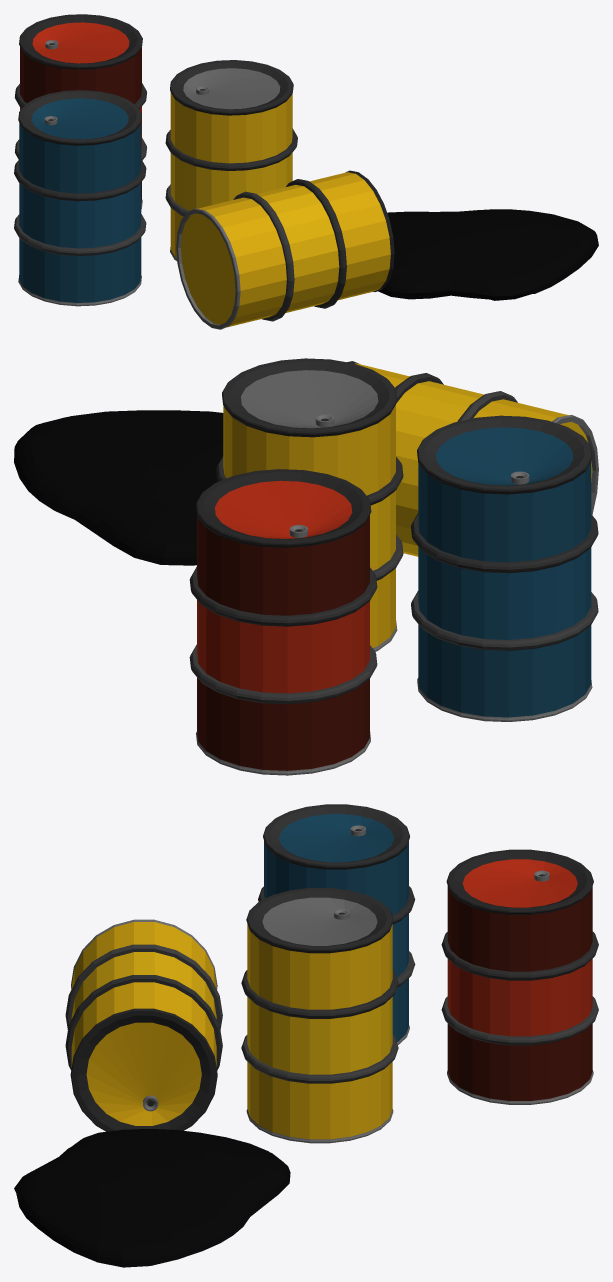
Rendered from PP_Oil_barrels3.fbx.
The picture shows the model from 3 angles, top to bottom: view 1: azimuth 30°, elevation 25°; view 2: azimuth 150°, elevation 25°; view 3: azimuth 270°, elevation 25°; orthographic projection. The views are drawn at different scales.
Visible parts, largest first — view 1: PP_Oil_barrel_yellow01, PP_Oil_barrel_blue, PP_Oil_barrel_yellow02, PP_Oil_stain, PP_Oil_barrel_red; view 2: PP_Oil_barrel_blue, PP_Oil_barrel_red, PP_Oil_stain, PP_Oil_barrel_yellow02, PP_Oil_barrel_yellow01; view 3: PP_Oil_barrel_yellow02, PP_Oil_barrel_red, PP_Oil_barrel_yellow01, PP_Oil_stain, PP_Oil_barrel_blue.
Part boxes in pixels (<box>): PP_Oil_barrel_yellow01: <box>176,170,394,329</box>; PP_Oil_barrel_blue: <box>14,90,146,306</box>; PP_Oil_barrel_yellow02: <box>165,60,297,261</box>; PP_Oil_stain: <box>378,209,598,300</box>; PP_Oil_barrel_red: <box>14,14,146,208</box>; PP_Oil_barrel_blue: <box>411,415,598,721</box>; PP_Oil_barrel_red: <box>189,469,377,775</box>; PP_Oil_stain: <box>14,410,223,565</box>; PP_Oil_barrel_yellow02: <box>216,358,403,651</box>; PP_Oil_barrel_yellow01: <box>347,361,598,556</box>; PP_Oil_barrel_yellow02: <box>241,888,398,1143</box>; PP_Oil_barrel_red: <box>441,849,598,1104</box>; PP_Oil_barrel_yellow01: <box>65,919,222,1131</box>; PP_Oil_stain: <box>14,1128,290,1267</box>; PP_Oil_barrel_blue: <box>258,804,415,1044</box>.
Size of the model in its own units: 2.96 by 0.9611 by 2.61.
